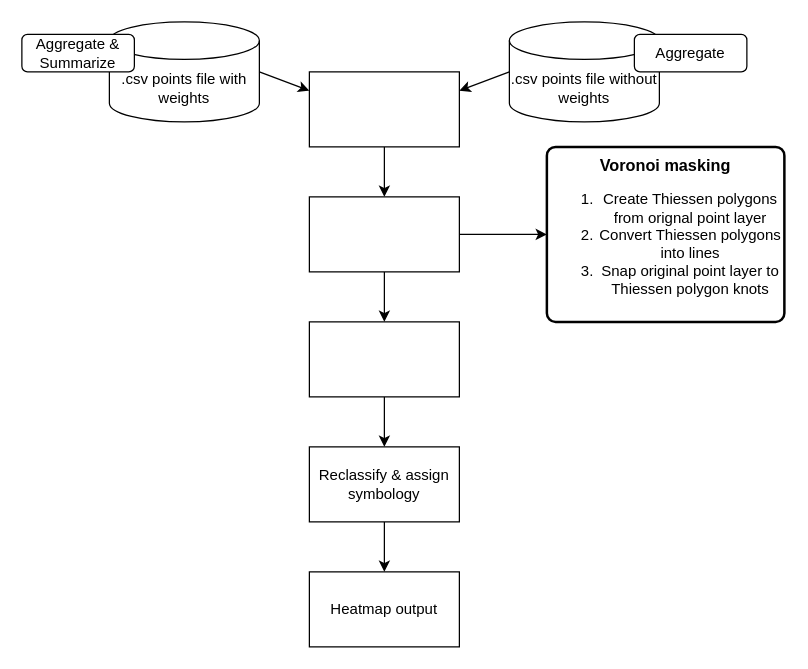
The diagram is 808 pixels wide and 669 high, and some of its shapes have lost their labels. The shapes that lost their labels are listed below. From the top down, each one's centre as x and y in pixels, then its label:
pixel 383 109: Point dataset
pixel 383 234: Data obfuscation
pixel 383 359: Kernel Density Estimation
